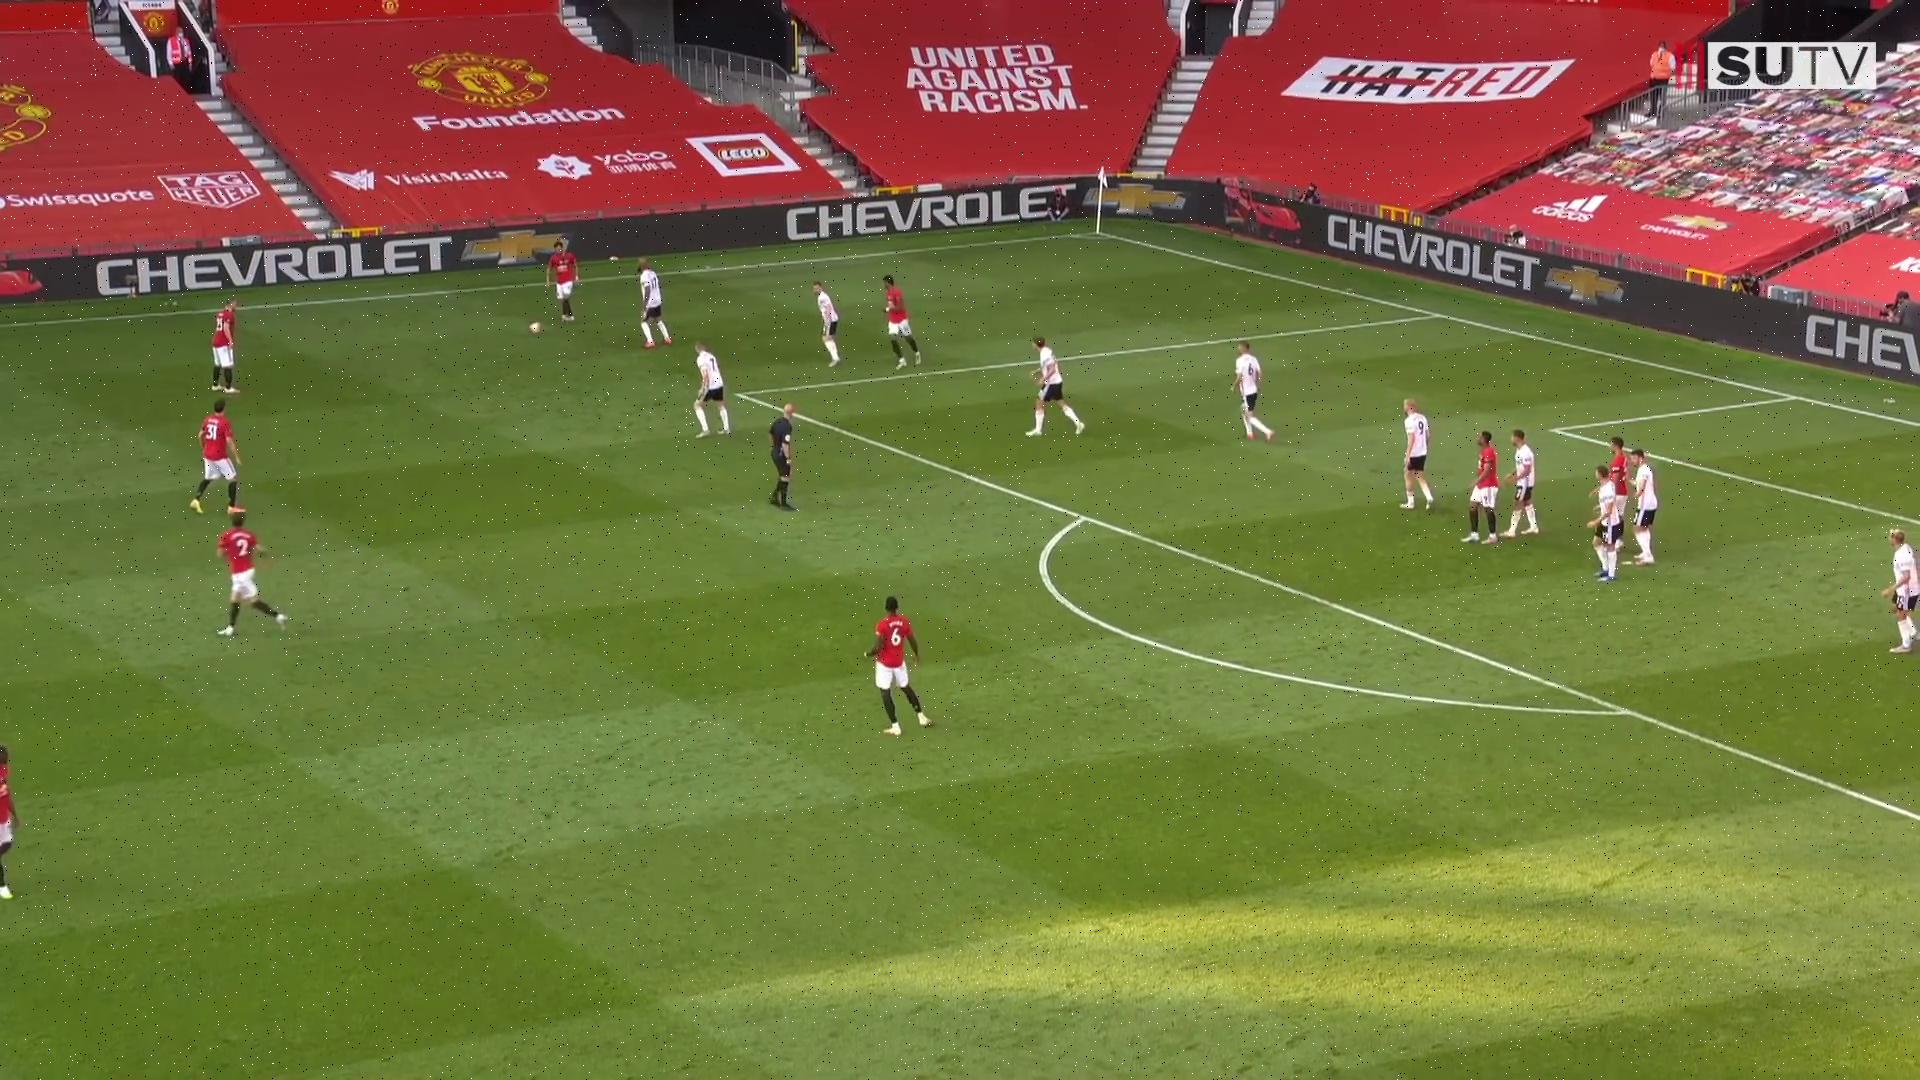ball: (527, 319, 543, 336)
